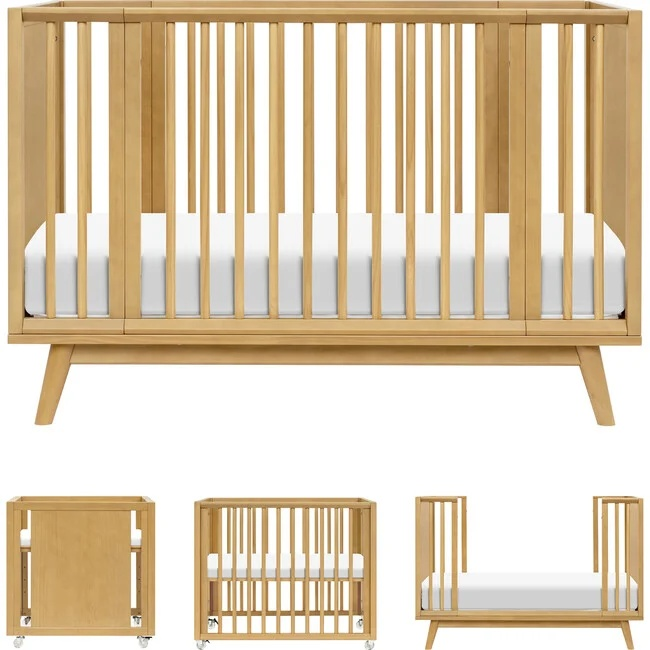crib: (6, 0, 643, 425), (414, 495, 650, 650), (195, 497, 377, 650), (7, 494, 154, 648)
